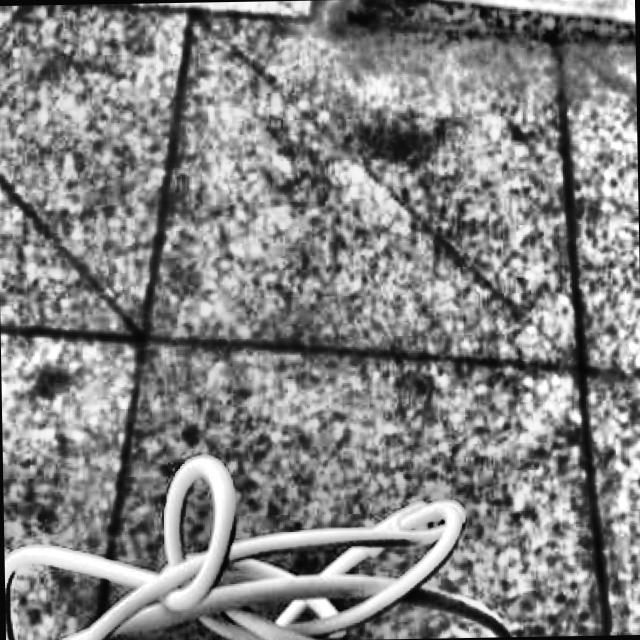Cable: (2, 446, 519, 640)
